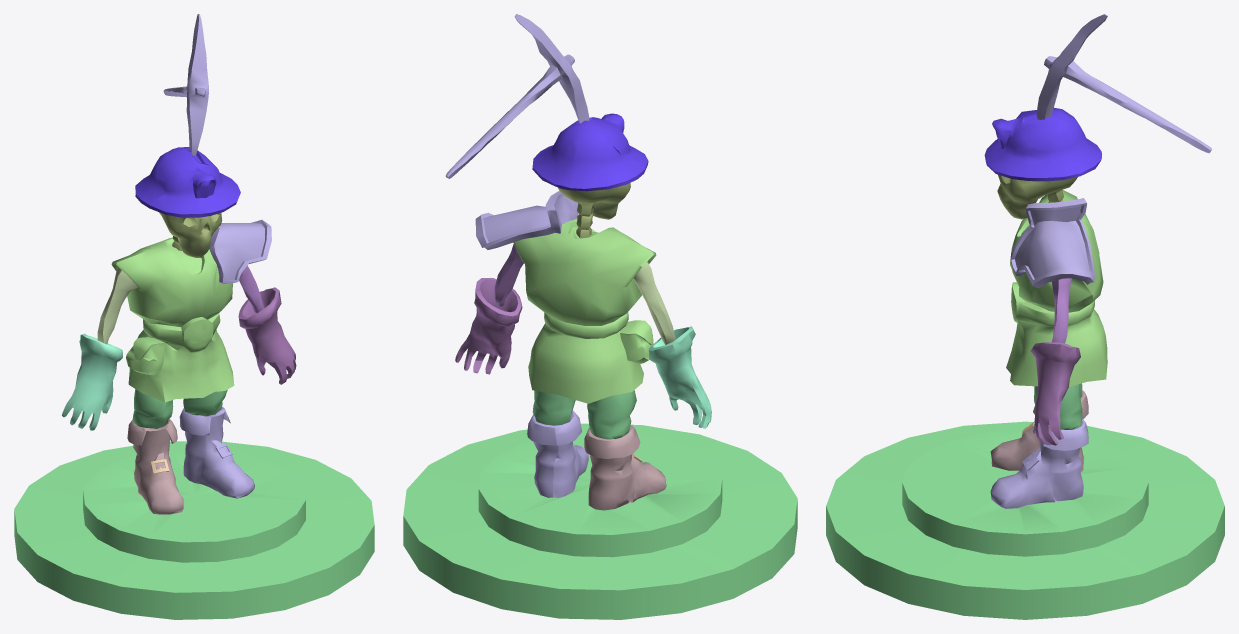
The picture shows the model from 3 angles, left to right: view 1: azimuth 30°, elevation 25°; view 2: azimuth 150°, elevation 25°; view 3: azimuth 270°, elevation 25°; orthographic projection. The views are drawn at different scales.
Parts seen in each view (by area): view 1: pCylinder1_lambert2_0, Object_11, split_parent_11, Object_5, Object_16.011, Object_18, Object_18.003, Object_12, Object_6, Object_9.002, Object_9; view 2: pCylinder1_lambert2_0, Object_11, split_parent_11, Object_5, Object_16.011, Object_18.003, Object_18, Object_12, Object_6, Object_9.002, Object_9; view 3: pCylinder1_lambert2_0, split_parent_11, Object_11, Object_5, Object_18.003, Object_6, Object_16.011, Object_9, Object_12.
Boxes of the visible parts, x1,y1,x2,y2 form: pCylinder1_lambert2_0: (14,441,374,619); Object_11: (111,237,234,402); split_parent_11: (163,14,271,498); Object_5: (135,147,240,217); Object_16.011: (127,419,183,514); Object_18: (62,333,122,430); Object_18.003: (238,287,296,384); Object_12: (132,337,227,428); Object_6: (159,212,222,257); Object_9.002: (97,267,138,344); Object_9: (239,265,263,313); pCylinder1_lambert2_0: (403,423,797,619); Object_11: (513,218,656,403); split_parent_11: (445,14,589,497); Object_5: (532,113,648,191); Object_16.011: (584,425,666,510); Object_18.003: (455,278,522,374); Object_18: (648,326,711,428); Object_12: (532,329,636,439); Object_6: (558,183,630,238); Object_9.002: (633,262,675,344); Object_9: (494,244,523,306); pCylinder1_lambert2_0: (826,421,1224,619); split_parent_11: (990,14,1212,508); Object_11: (1006,190,1107,386); Object_5: (984,107,1101,181); Object_18.003: (1031,342,1080,445); Object_6: (997,174,1077,219); Object_16.011: (990,390,1088,472); Object_9: (1051,278,1071,343); Object_12: (1034,383,1082,429).
Bounding box in the file's own units: 0.665 × 1 × 0.665.
